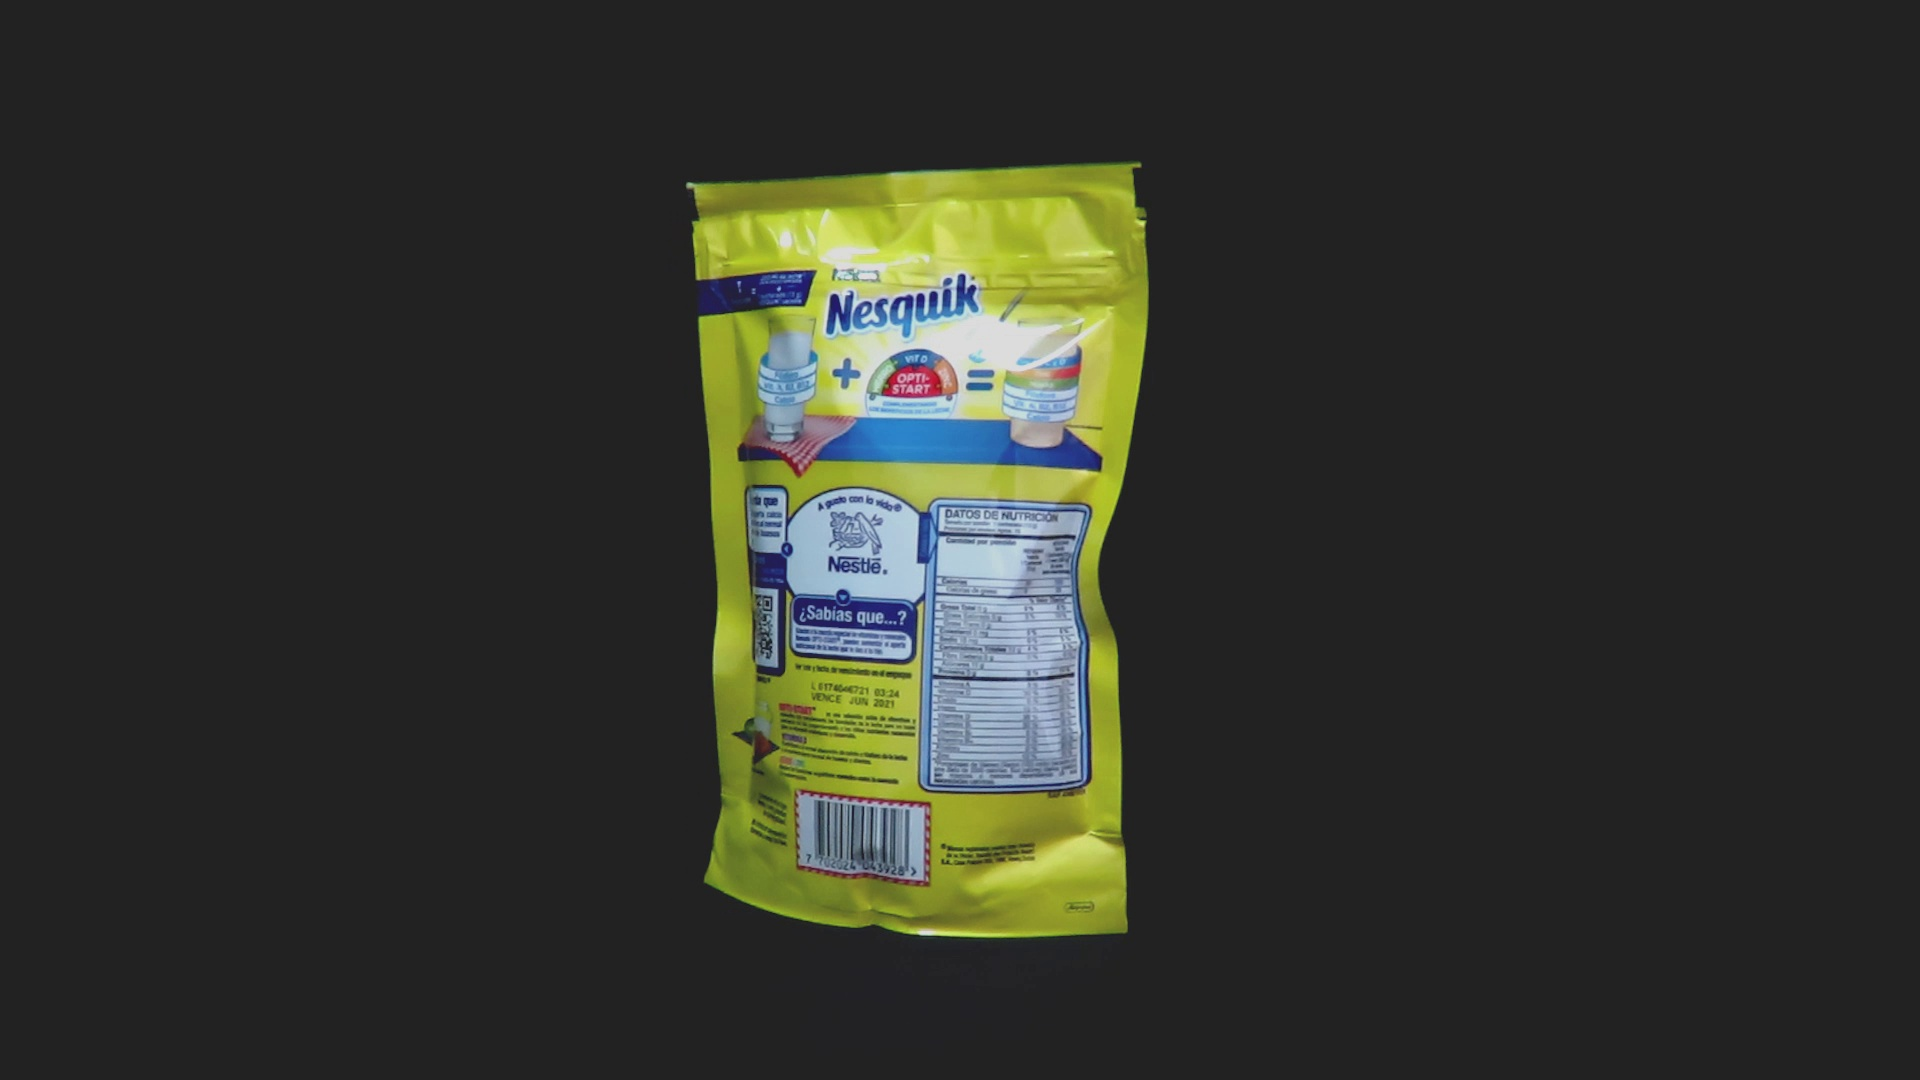COL0170306DYP20000: (680, 157, 1155, 944)
